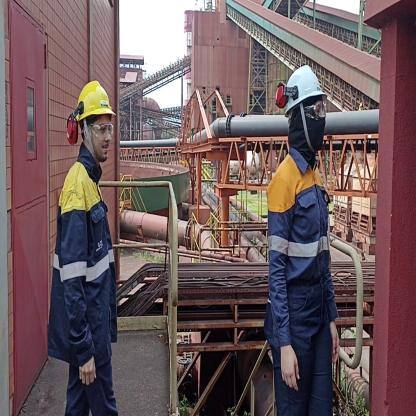Balaclava: (288, 104, 328, 154)
C_eletrica: (51, 165, 118, 372)
Capacete: (279, 61, 327, 100), (74, 78, 115, 119)
Operacional: (267, 158, 338, 326)
